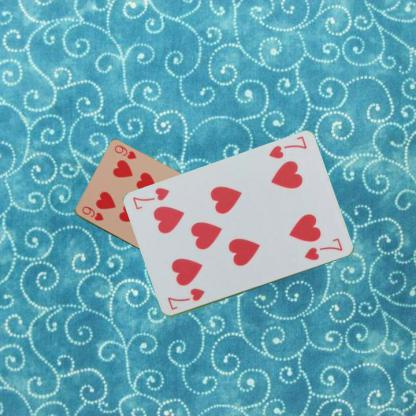7h: (164, 285, 206, 312), (266, 134, 308, 160)
9h: (79, 204, 105, 222)
